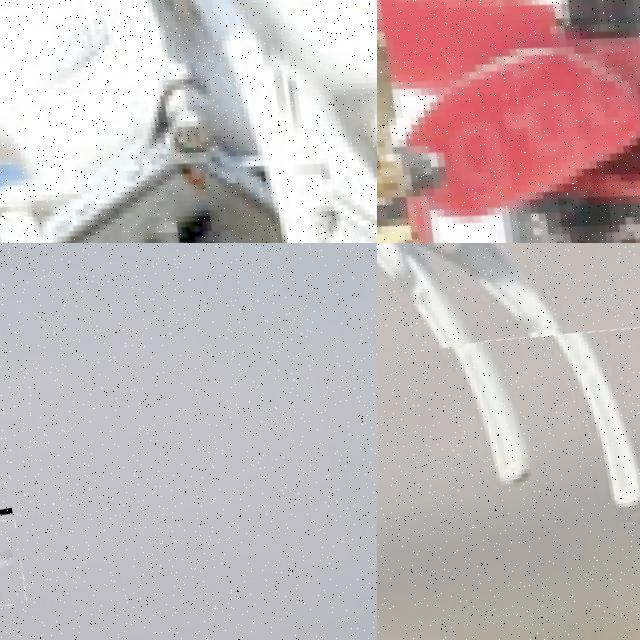drone: (0, 0, 377, 243), (377, 0, 640, 243), (377, 243, 640, 420)
